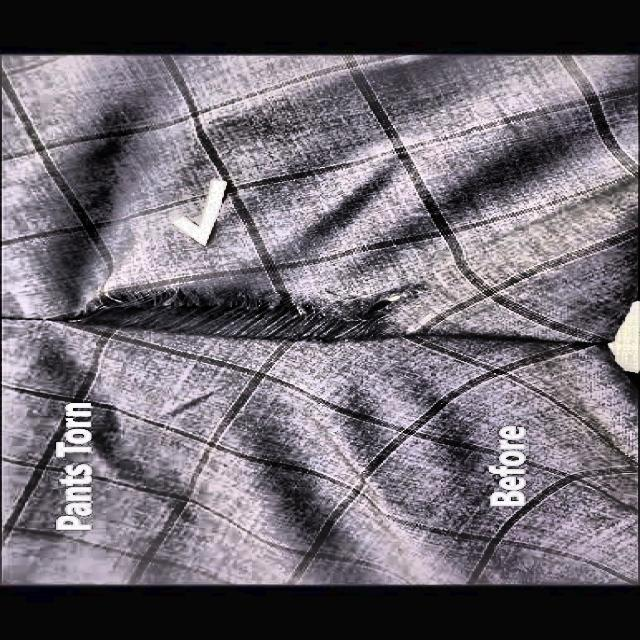seam: (75, 274, 418, 359)
